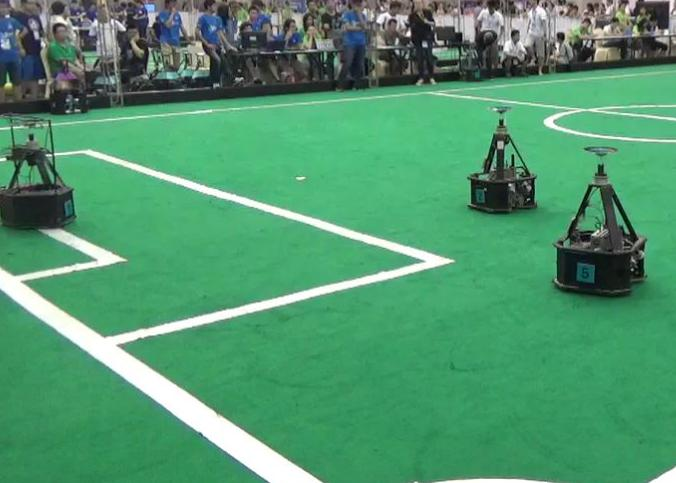robot: (547, 143, 654, 301), (2, 113, 77, 230), (468, 101, 541, 217)
